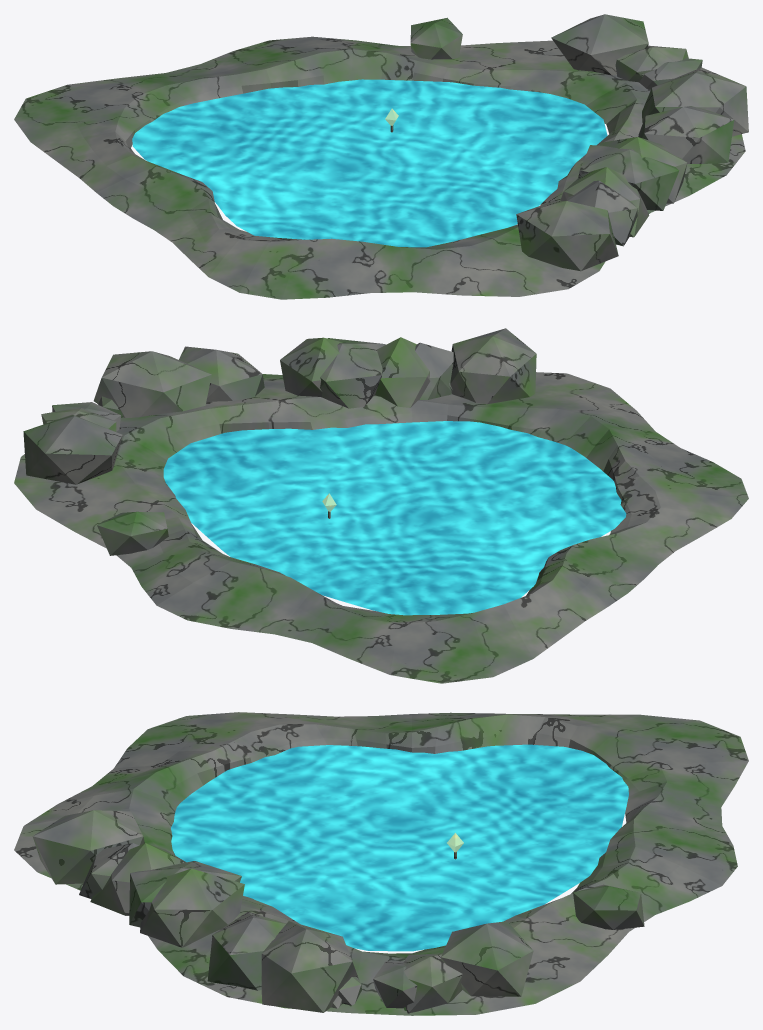
Rendered from pond_bank.glb.
3 views of the same model, one above another, from view 1: azimuth 30°, elevation 25°; view 2: azimuth 150°, elevation 25°; view 3: azimuth 270°, elevation 25° (orthographic). The views are drawn at different scales.
Parts seen in each view (by area): view 1: pond_bank__stone, pond_bank__water; view 2: pond_bank__stone, pond_bank__water; view 3: pond_bank__stone, pond_bank__water.
Part boxes in pixels (left/top/right/bottom): pond_bank__stone: left=14, top=14, right=748, bottom=299; pond_bank__water: left=132, top=79, right=607, bottom=247; pond_bank__stone: left=14, top=328, right=748, bottom=683; pond_bank__water: left=163, top=421, right=626, bottom=615; pond_bank__stone: left=14, top=712, right=748, bottom=1015; pond_bank__water: left=171, top=744, right=628, bottom=951.
Size of the model in its own units: 9.02 by 0.8823 by 9.2.
3 materials, 3 textured.
